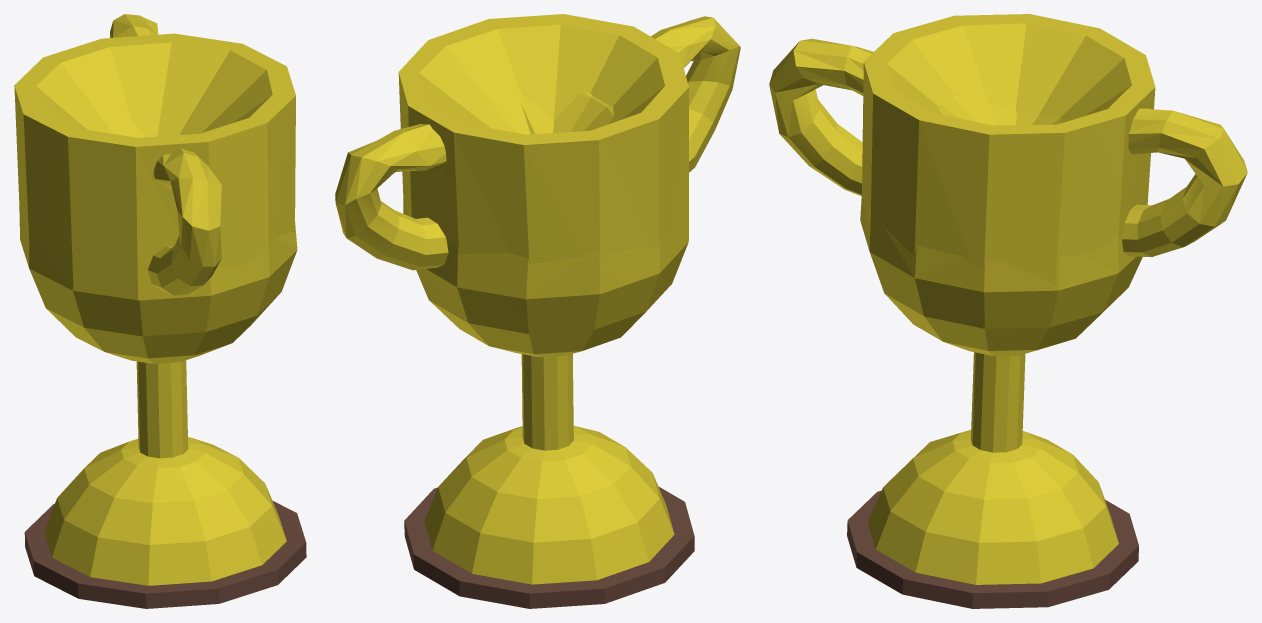
3 views of the same model, side by side, from view 1: azimuth 30°, elevation 25°; view 2: azimuth 150°, elevation 25°; view 3: azimuth 270°, elevation 25° (orthographic). The views are drawn at different scales.
Visible parts, largest first — view 1: node_MeshObject-753434624-PolyPaper21; view 2: node_MeshObject-753434624-PolyPaper21; view 3: node_MeshObject-753434624-PolyPaper21.
Part boxes in pixels (x1,y1,x2,y2): node_MeshObject-753434624-PolyPaper21: (14,14,306,608); node_MeshObject-753434624-PolyPaper21: (335,14,740,608); node_MeshObject-753434624-PolyPaper21: (769,14,1247,608).
Size of the model in its own units: 0.2785 by 0.5024 by 0.4523.
